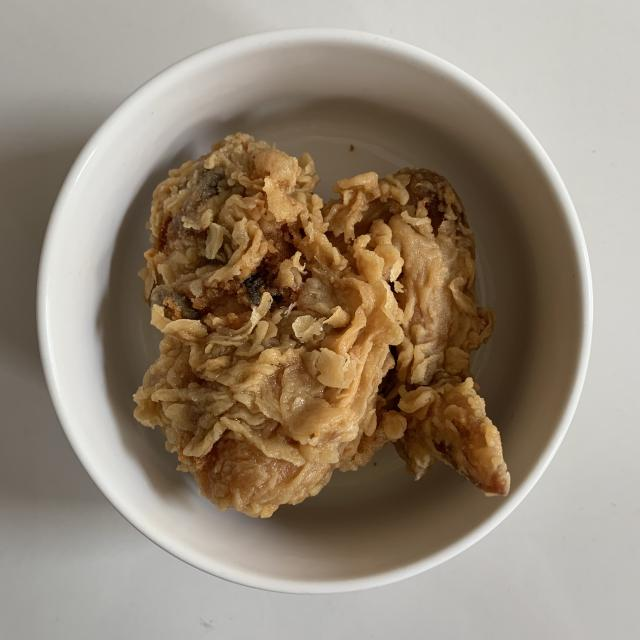Frango: (138, 141, 511, 518)
